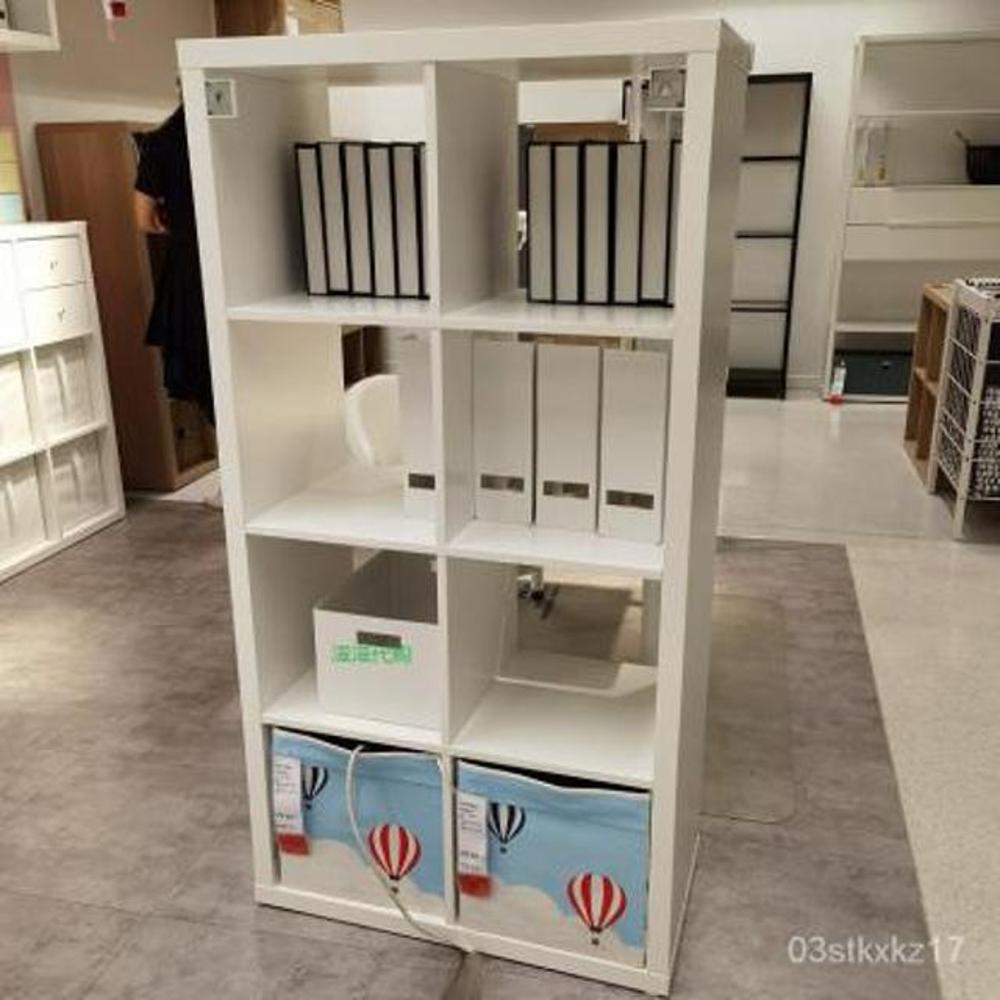lamp: (178, 14, 755, 998)
